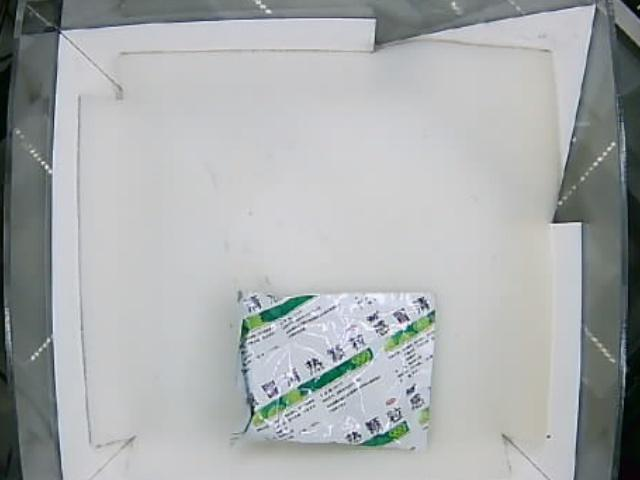Medicine: (230, 282, 435, 454)
